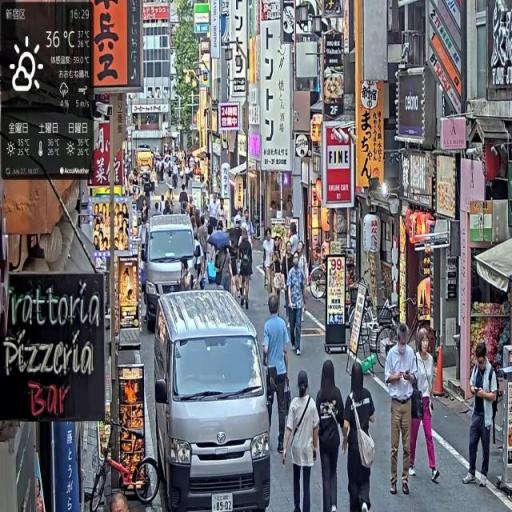person: (385, 320, 420, 499), (281, 368, 321, 512), (342, 358, 378, 512), (464, 340, 501, 489), (408, 329, 443, 486), (315, 357, 346, 512), (263, 293, 292, 455), (287, 250, 308, 356), (238, 228, 255, 308), (262, 228, 276, 297)
